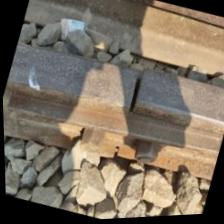person: (65, 24, 203, 163), (101, 141, 127, 165)
